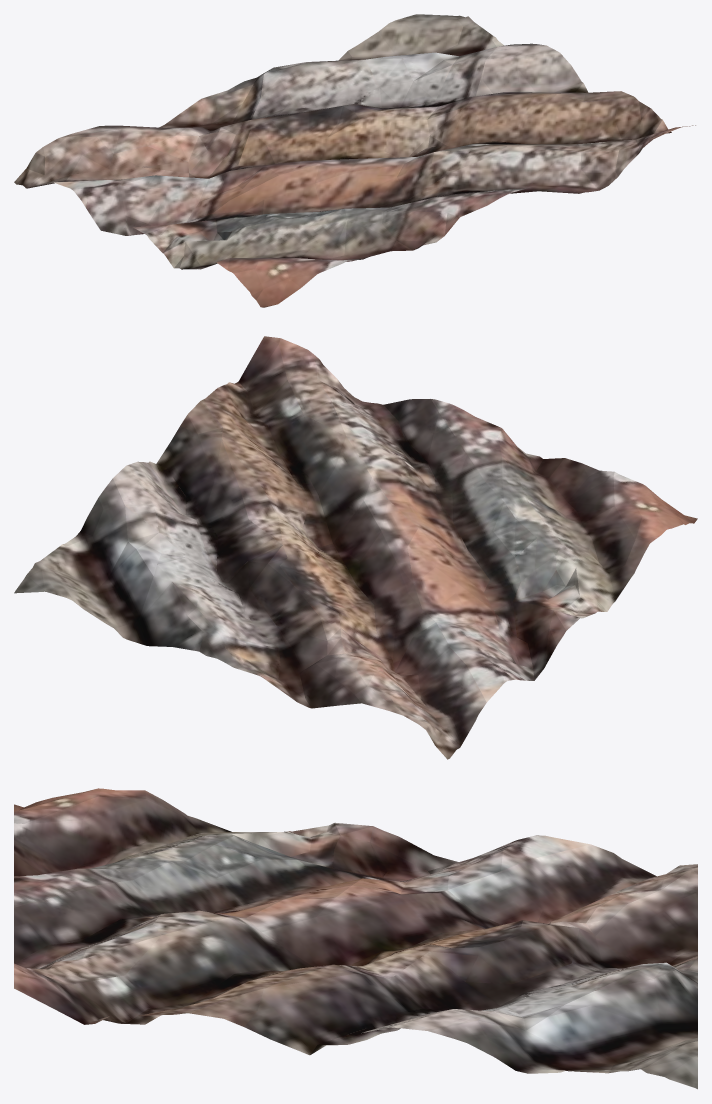
3 renders of one model, top to bottom at view 1: azimuth 30°, elevation 25°; view 2: azimuth 150°, elevation 25°; view 3: azimuth 270°, elevation 25°, orthographic. The views are drawn at different scales.
Bounding box in the file's own units: 0.8373 × 0.2526 × 0.8374.
Materials: 3 (3 with a texture image).
